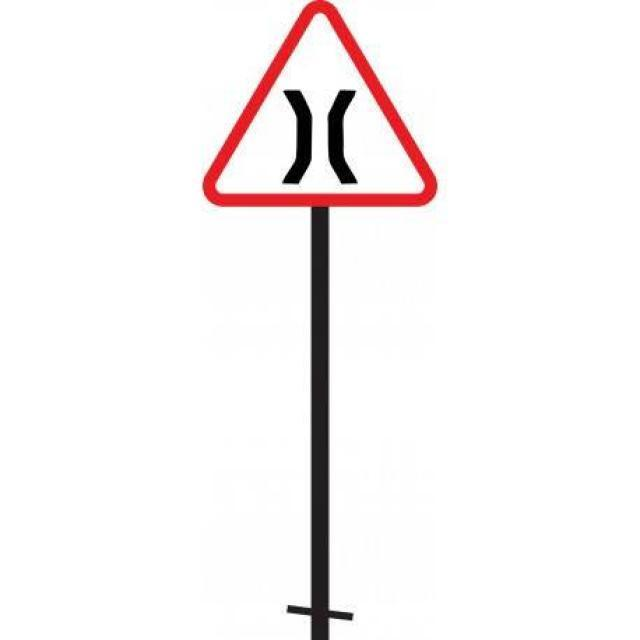narrow bridge ahead: (205, 10, 437, 206)
